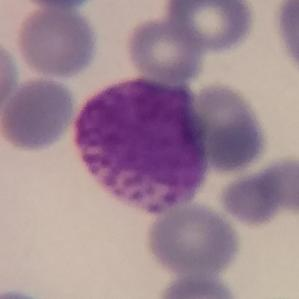Basophil: (62, 70, 215, 222)
RBC: (143, 198, 243, 276), (190, 81, 270, 175), (14, 4, 100, 80), (0, 75, 78, 153), (123, 15, 206, 83), (164, 0, 258, 55), (219, 171, 281, 228), (156, 272, 240, 299), (271, 0, 299, 78), (263, 157, 299, 211), (0, 35, 20, 117), (22, 0, 101, 11), (0, 286, 54, 299)
